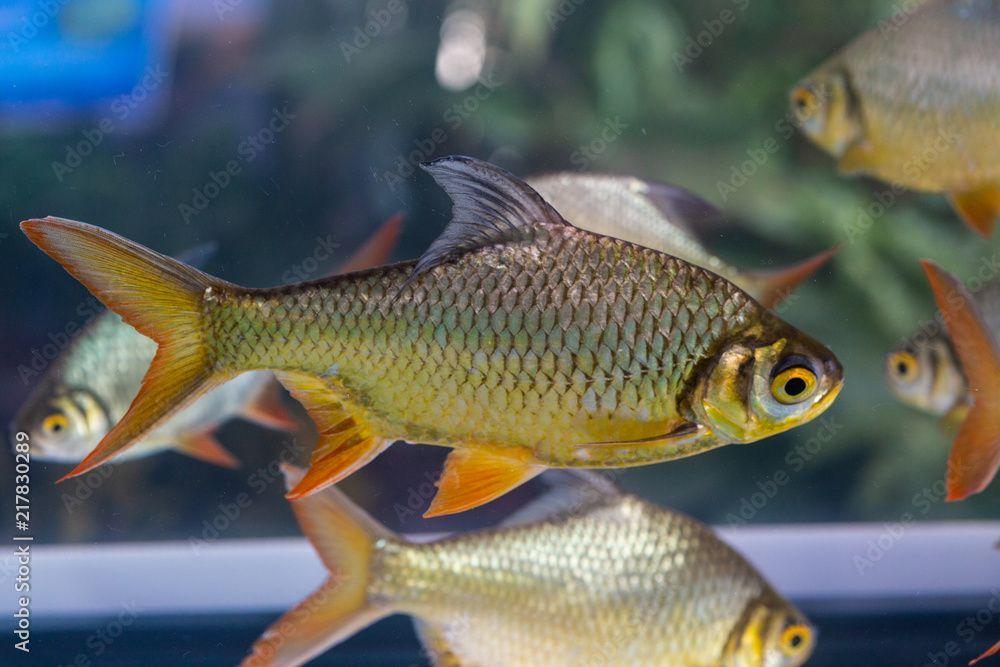Silver Barb: (31, 158, 850, 507)
